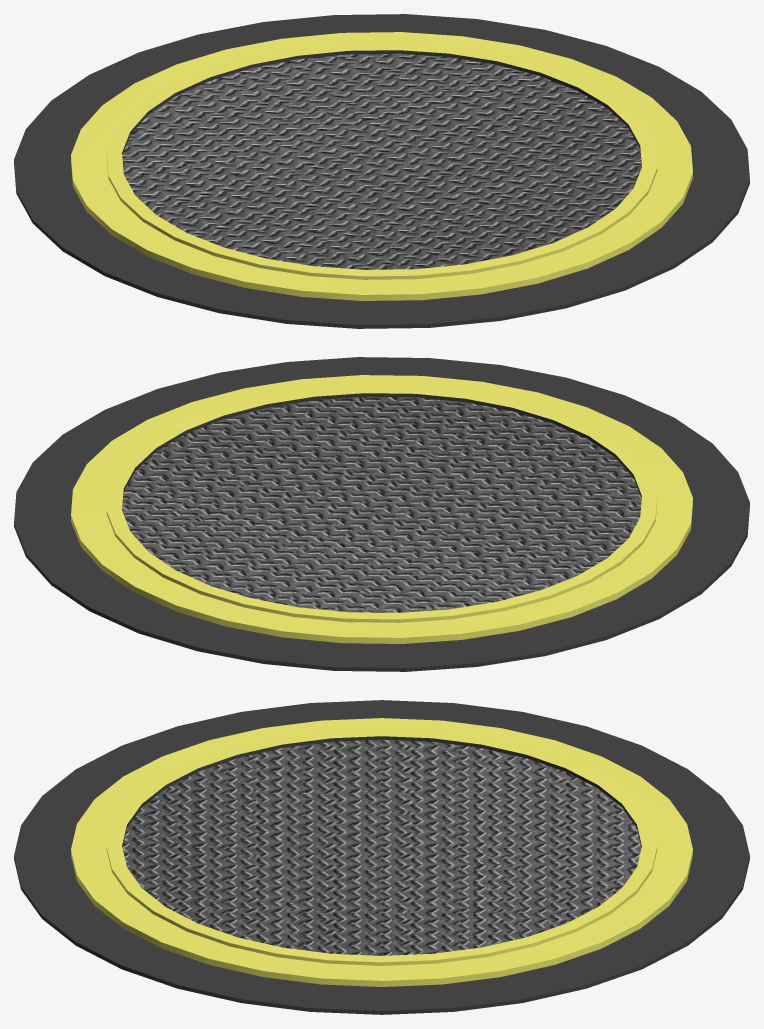
The model's file is garage selection ring.fbx.
The picture shows the model from 3 angles, top to bottom: view 1: azimuth 30°, elevation 25°; view 2: azimuth 150°, elevation 25°; view 3: azimuth 270°, elevation 25°; orthographic projection.
Parts seen in each view (by area): view 1: Circle; view 2: Circle; view 3: Circle.
Part boxes in pixels (x1,y1,x2,y2): Circle: [14, 14, 749, 328]; Circle: [14, 357, 749, 671]; Circle: [14, 700, 749, 1014].
Size of the model in its own units: 780 by 15.6 by 780.
Materials: 3 (2 with a texture image).
